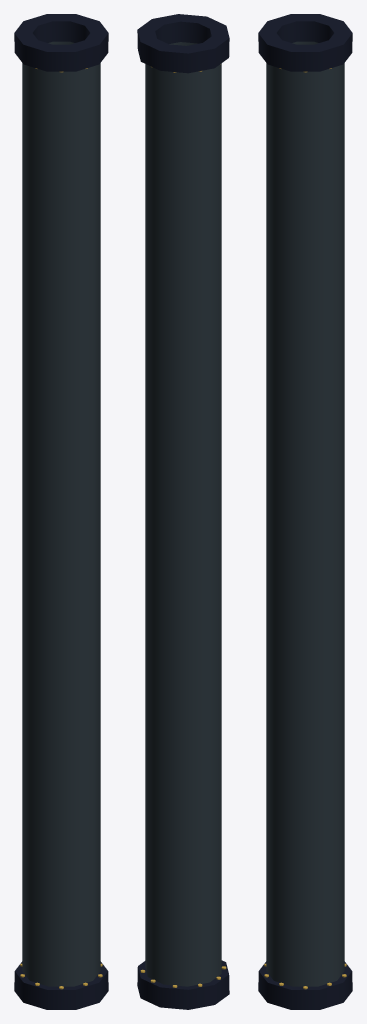
Rendered from P_Straight_06.obj.
The picture shows the model from 3 angles, left to right: view 1: azimuth 90°, elevation 25°; view 2: azimuth 150°, elevation 25°; view 3: azimuth 270°, elevation 25°; orthographic projection.
Parts seen in each view (by area): view 1: P_Straight_06_Rohr, P_Straight_06_Verbindung; view 2: P_Straight_06_Rohr, P_Straight_06_Verbindung; view 3: P_Straight_06_Rohr, P_Straight_06_Verbindung.
Part boxes in pixels (<box>): P_Straight_06_Rohr: <box>22,41,100,986</box>; P_Straight_06_Verbindung: <box>14,14,108,1009</box>; P_Straight_06_Rohr: <box>145,42,221,986</box>; P_Straight_06_Verbindung: <box>137,14,229,1009</box>; P_Straight_06_Rohr: <box>266,41,344,986</box>; P_Straight_06_Verbindung: <box>258,14,352,1009</box>.
Size of the model in its own units: 0.6204 by 7.31 by 0.6523.
